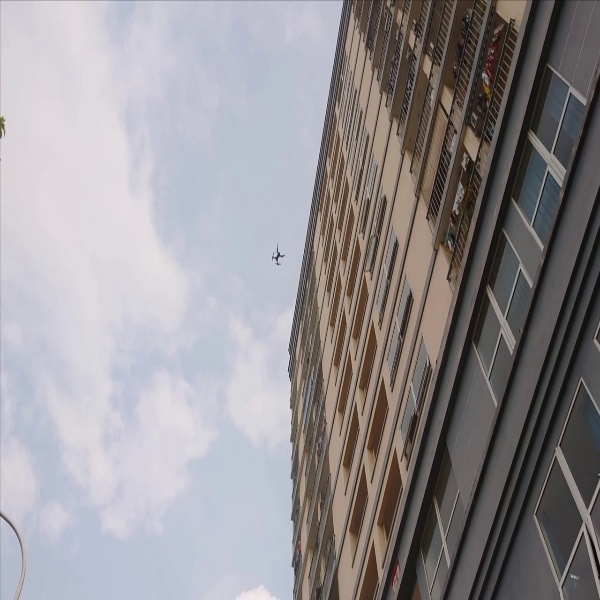drone: (267, 240, 287, 269)
